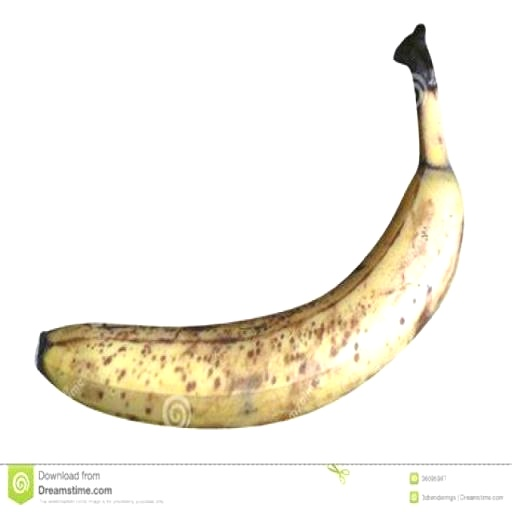fruit: (37, 25, 463, 427)
